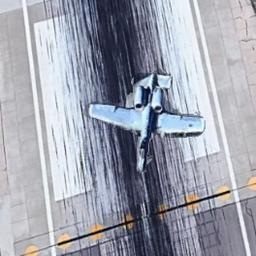Airplane: (87, 71, 206, 173)
